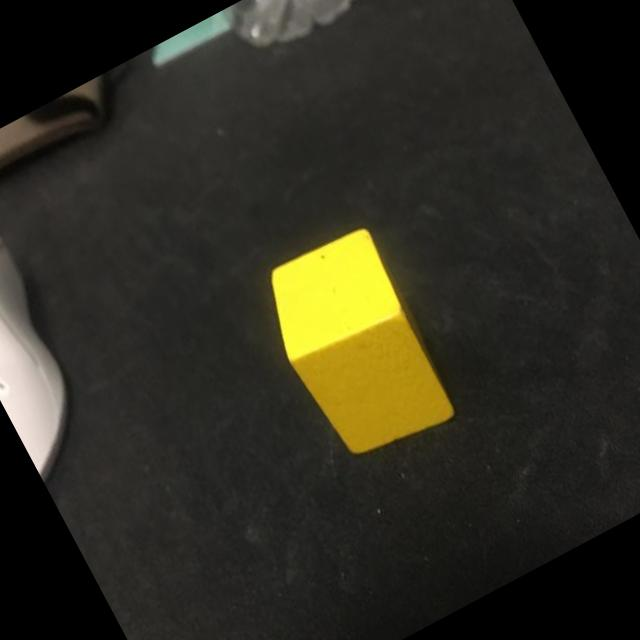yellow: (248, 220, 466, 470)
